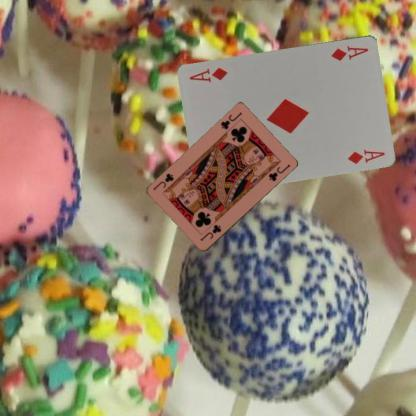Ad: (329, 43, 370, 62)
Jc: (218, 109, 243, 131), (198, 222, 222, 242)
